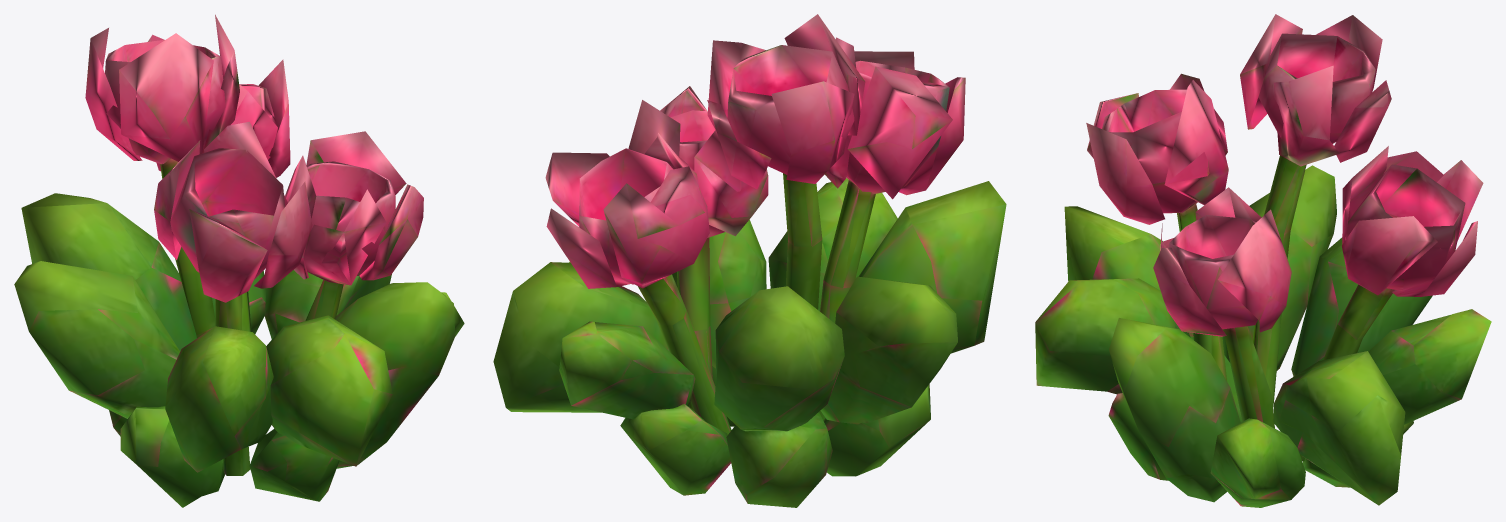
The model's file is crop_tulip.glb.
The picture shows the model from 3 angles, left to right: view 1: azimuth 30°, elevation 25°; view 2: azimuth 150°, elevation 25°; view 3: azimuth 270°, elevation 25°; orthographic projection. The views are drawn at different scales.
Bounding box in the file's own units: 0.9663 × 0.9954 × 0.9441.
1 material, 1 textured.
